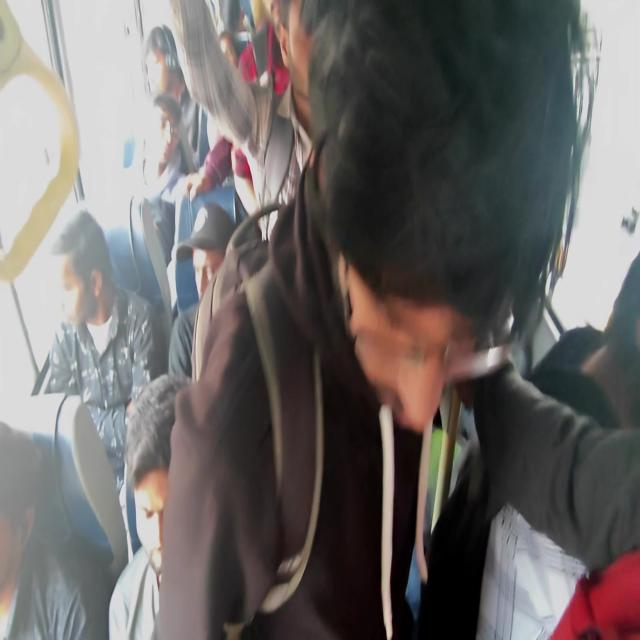person: (342, 193, 516, 441), (0, 418, 51, 640), (588, 321, 640, 432), (132, 459, 168, 577), (281, 6, 314, 130), (58, 260, 90, 328), (232, 143, 258, 219), (145, 53, 169, 95), (193, 256, 217, 276), (159, 117, 179, 138), (276, 12, 290, 40)
